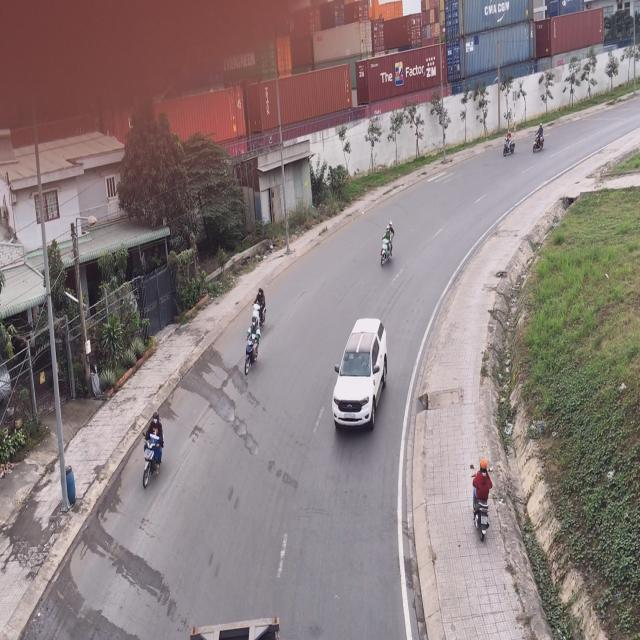car: (332, 319, 388, 434)
motorbike: (141, 413, 164, 490), (473, 461, 494, 542), (245, 317, 262, 377), (378, 221, 395, 271), (252, 287, 270, 333), (503, 122, 515, 158), (532, 124, 544, 154)
